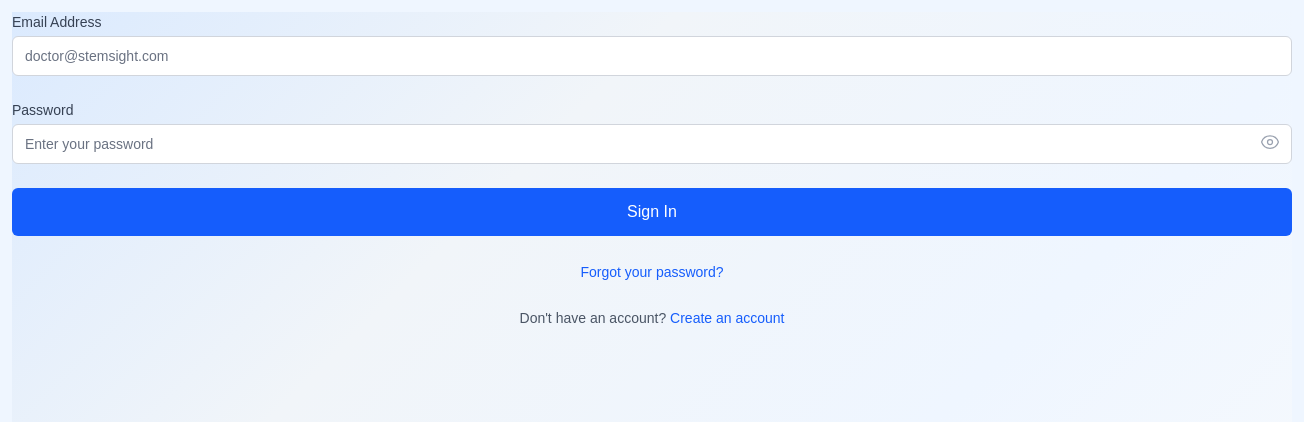
Test: LoginForm › shows error when password is empty
The width and height of the screenshot is (1304, 422).
Type "test@example.com" into the field labelled "Email Address". click: (652, 56)
box: [12,36,1292,76]
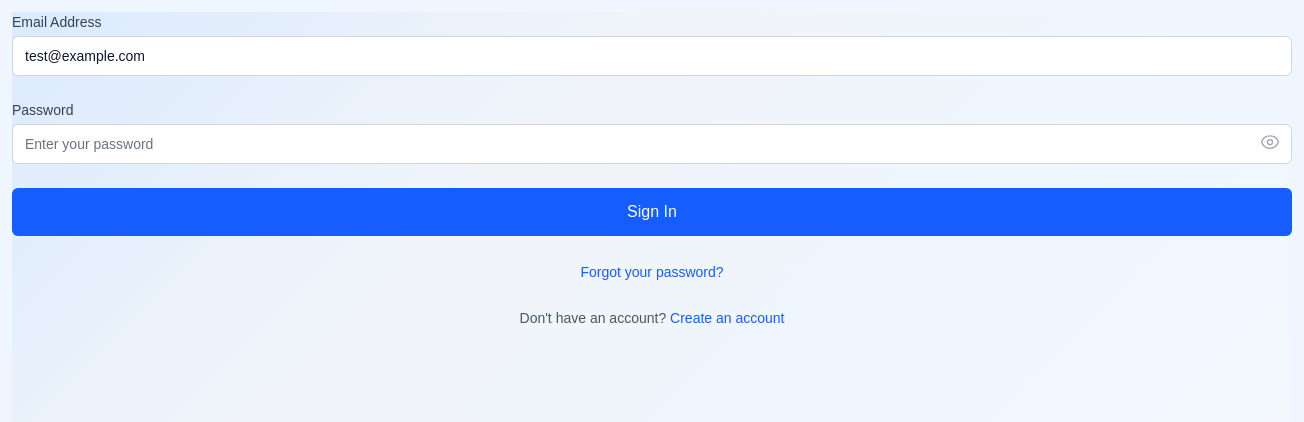
Click the button "Sign In". click: (652, 212)
box: [12,188,1292,236]
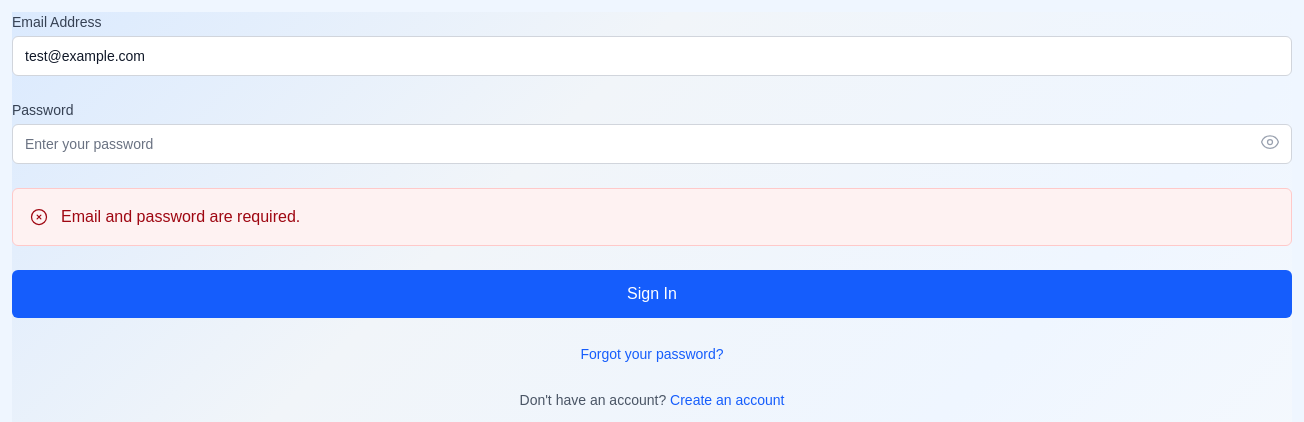
Result: the text "Email and password are required." is shown at [61,208,300,225]
